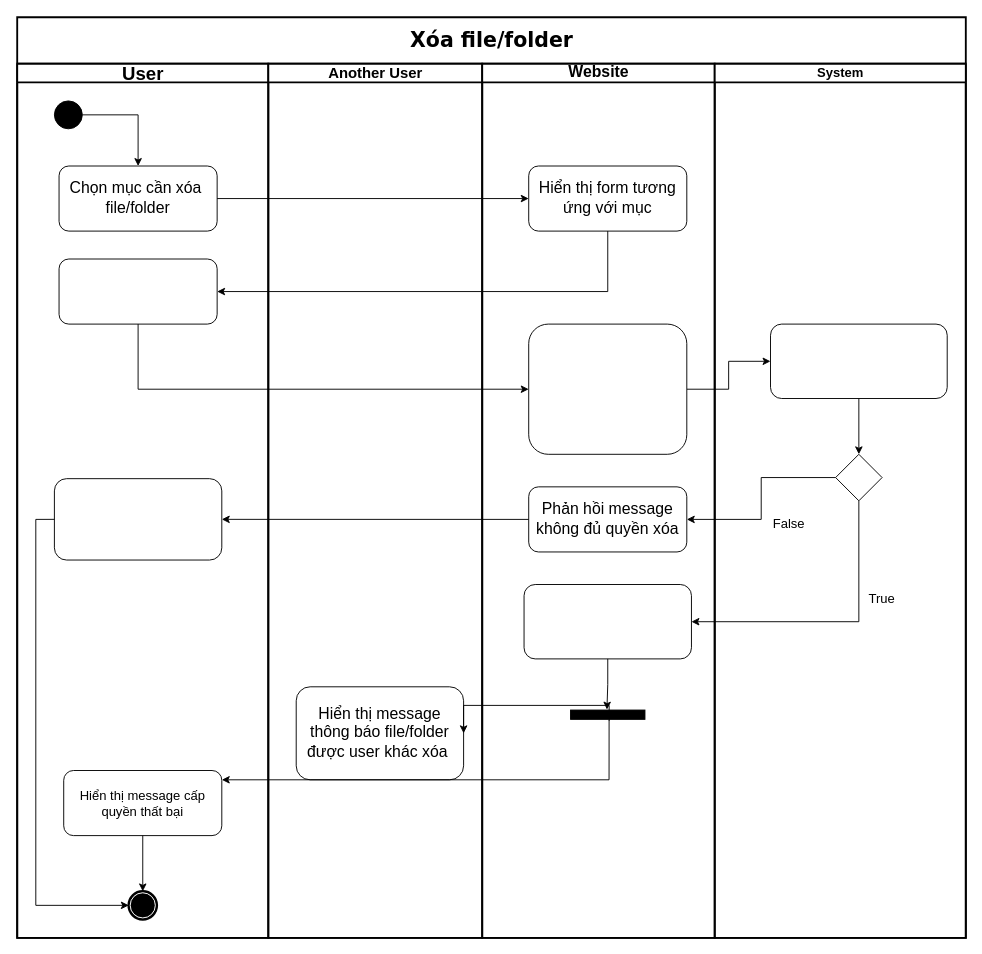
The diagram is 982 pixels wide and 954 high, and some of its shapes have lost their labels. The centre of each missing label's shape, as x and y in pixels:
Chọn file/folder cần xóa: [137,291]
Gửi message websocket thông tin file/folder cần xóa, quyền của user: [607,388]
Hiển thị message xóa file/folder thất bại: [137,519]
Kiểm tra quyền của user với file/folder cần xóa: [858,361]
Phản hồi message xóa file/folder thành công: [607,621]
